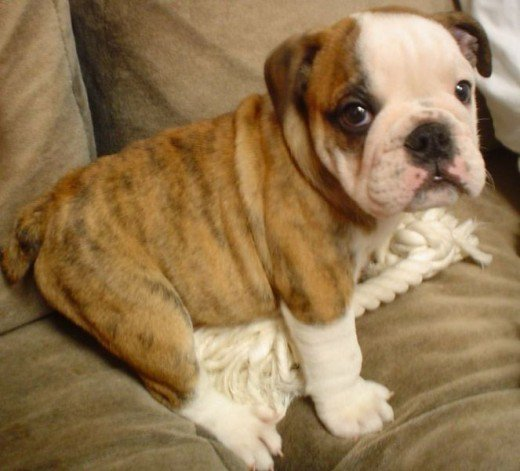dog: (1, 9, 495, 466)
